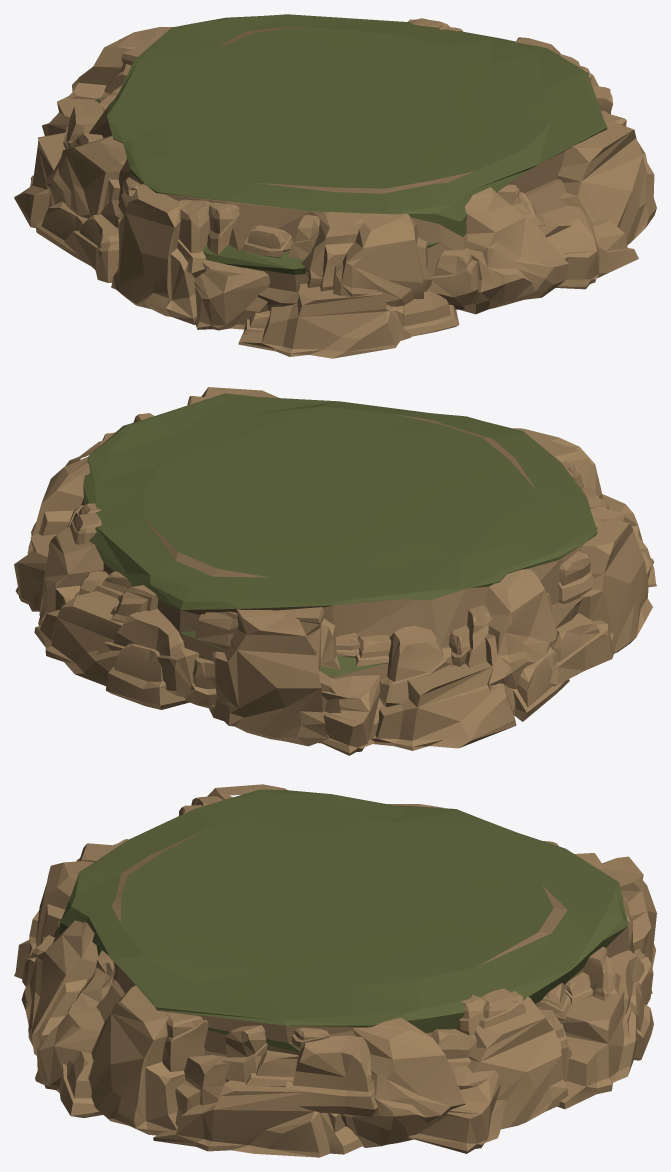
The model's file is SM_Env_Cliff.glb.
3 renders of one model, top to bottom at view 1: azimuth 30°, elevation 25°; view 2: azimuth 150°, elevation 25°; view 3: azimuth 270°, elevation 25°, orthographic. The views are drawn at different scales.
Visible parts, largest first — view 1: SM_Env_Cliff; view 2: SM_Env_Cliff; view 3: SM_Env_Cliff.
Part boxes in pixels (box(x1,y1,x2,y2)): SM_Env_Cliff: box(14, 14, 656, 358); SM_Env_Cliff: box(14, 387, 656, 755); SM_Env_Cliff: box(14, 784, 656, 1157).
Size of the model in its own units: 91.95 by 19.76 by 89.69.
Materials: 1 (1 with a texture image).
